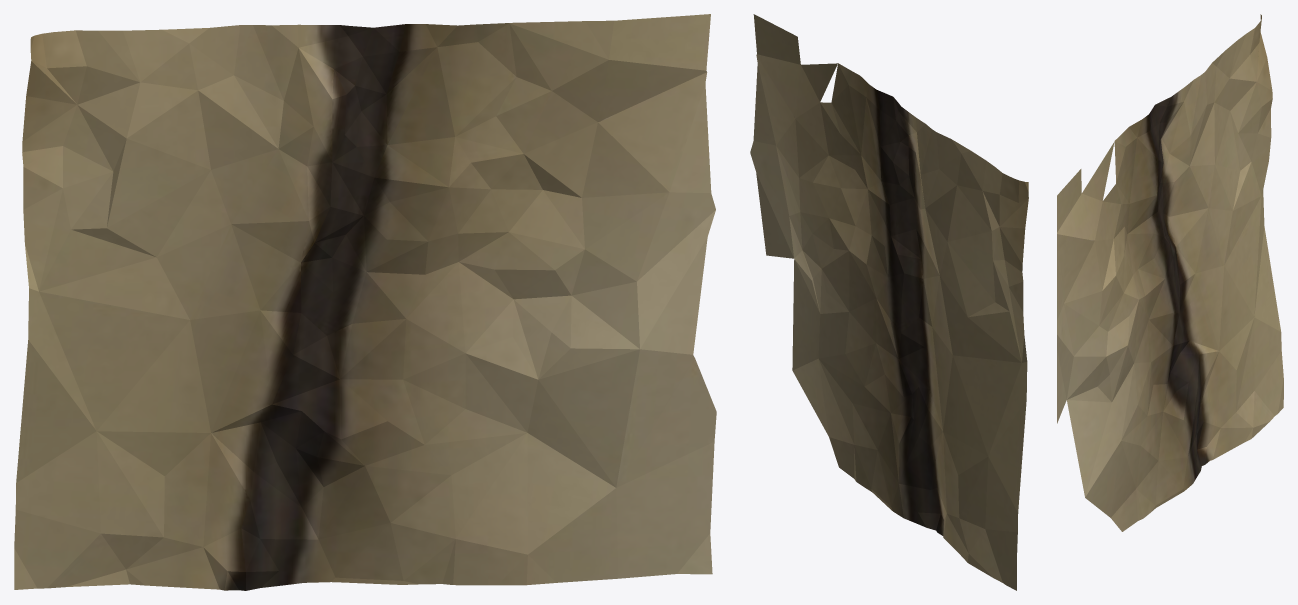
3 renders of one model, left to right at view 1: azimuth 30°, elevation 25°; view 2: azimuth 150°, elevation 25°; view 3: azimuth 270°, elevation 25°, orthographic. The views are drawn at different scales.
Bounding box in the file's own units: 0.8373 × 0.8374 × 0.4373.
3 materials, 3 textured.
